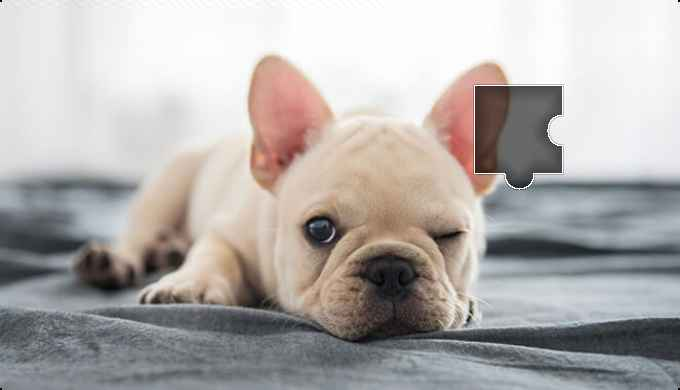gap: (474, 86, 563, 188)
